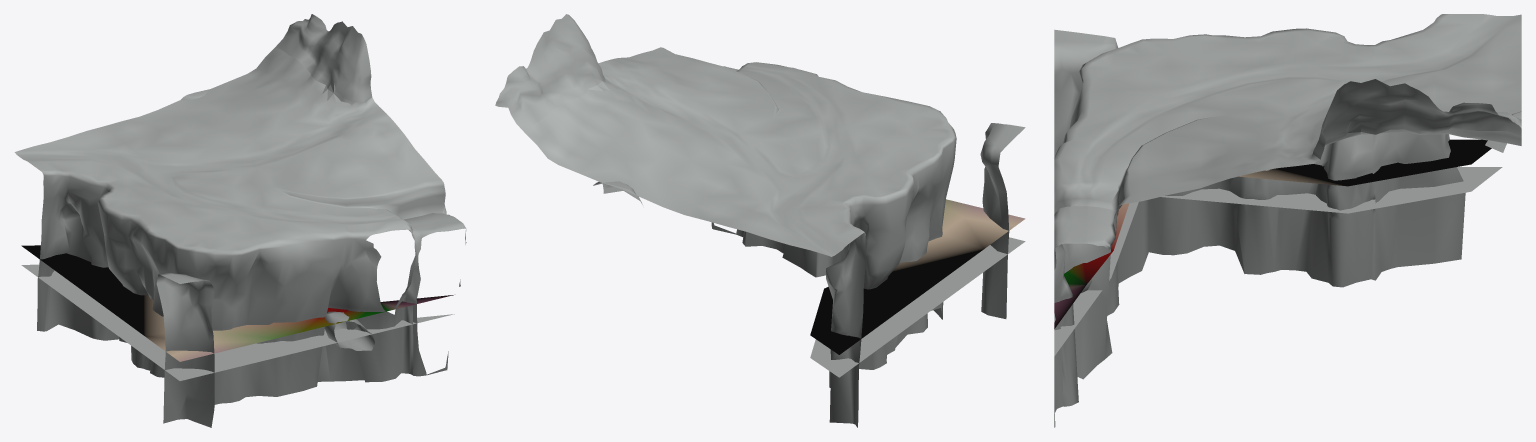
3 renders of one model, left to right at view 1: azimuth 30°, elevation 25°; view 2: azimuth 150°, elevation 25°; view 3: azimuth 270°, elevation 25°, orthographic. The views are drawn at different scales.
Visible parts, largest first — view 1: G:\FFXIV-MapTools\exports\w1f4\bg\ffxiv\wil_w1\fld\w1f4\bgpl (×16); view 2: G:\FFXIV-MapTools\exports\w1f4\bg\ffxiv\wil_w1\fld\w1f4\bgpl (×12); view 3: G:\FFXIV-MapTools\exports\w1f4\bg\ffxiv\wil_w1\fld\w1f4\bgpl (×15).
Boxes of the visible parts, x1=… form: G:\FFXIV-MapTools\exports\w1f4\bg\ffxiv\wil_w1\fld\w1f4\bgpl (×16): x1=14, y1=14, x2=466, y2=427; G:\FFXIV-MapTools\exports\w1f4\bg\ffxiv\wil_w1\fld\w1f4\bgpl (×12): x1=495, y1=14, x2=1025, y2=427; G:\FFXIV-MapTools\exports\w1f4\bg\ffxiv\wil_w1\fld\w1f4\bgpl (×15): x1=1054, y1=14, x2=1521, y2=427.
Bounding box in the file's own units: 128 × 109 × 128.
